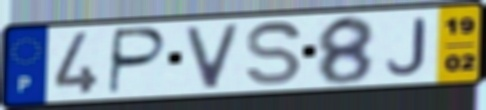4: (51, 29, 101, 97)
8: (314, 13, 378, 87)
J: (384, 16, 429, 77)
P: (105, 25, 170, 97)
S: (244, 19, 304, 88)
V: (183, 22, 243, 92)
